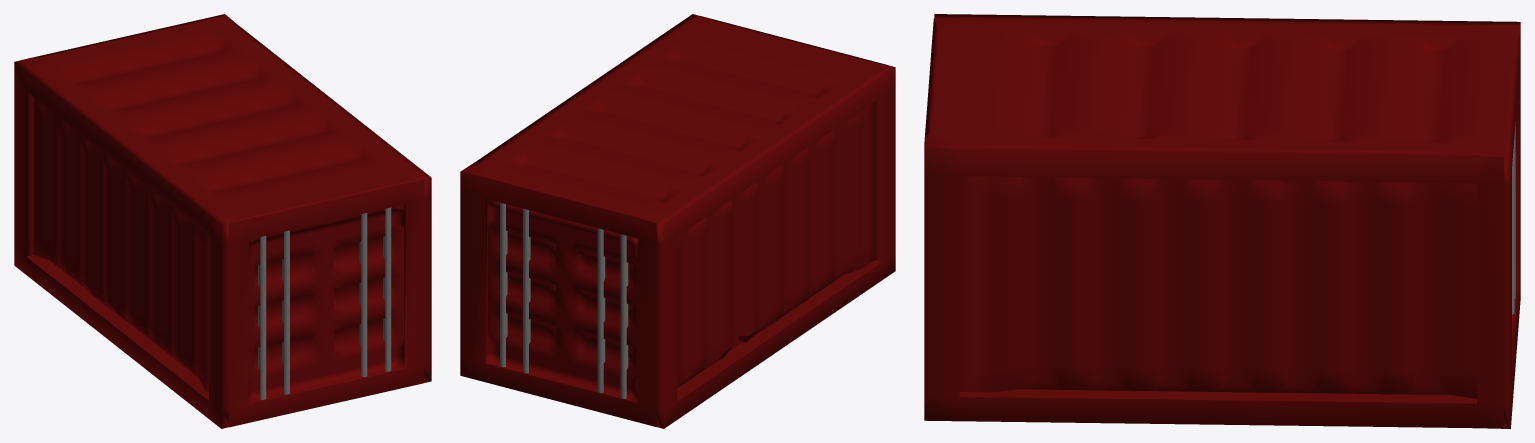
File: sm_storagebox_l.fbx
3 renders of one model, left to right at view 1: azimuth 30°, elevation 25°; view 2: azimuth 150°, elevation 25°; view 3: azimuth 270°, elevation 25°, orthographic. The views are drawn at different scales.
Visible parts, largest first — view 1: polySurface523; view 2: polySurface523; view 3: polySurface523.
Boxes of the visible parts, <box> form: polySurface523: <box>14,14,431,428</box>; polySurface523: <box>460,14,895,428</box>; polySurface523: <box>924,14,1520,428</box>.
Bounding box in the file's own units: 307 × 273 × 542.
